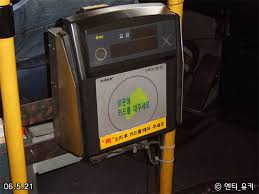terminal: (42, 2, 187, 161)
